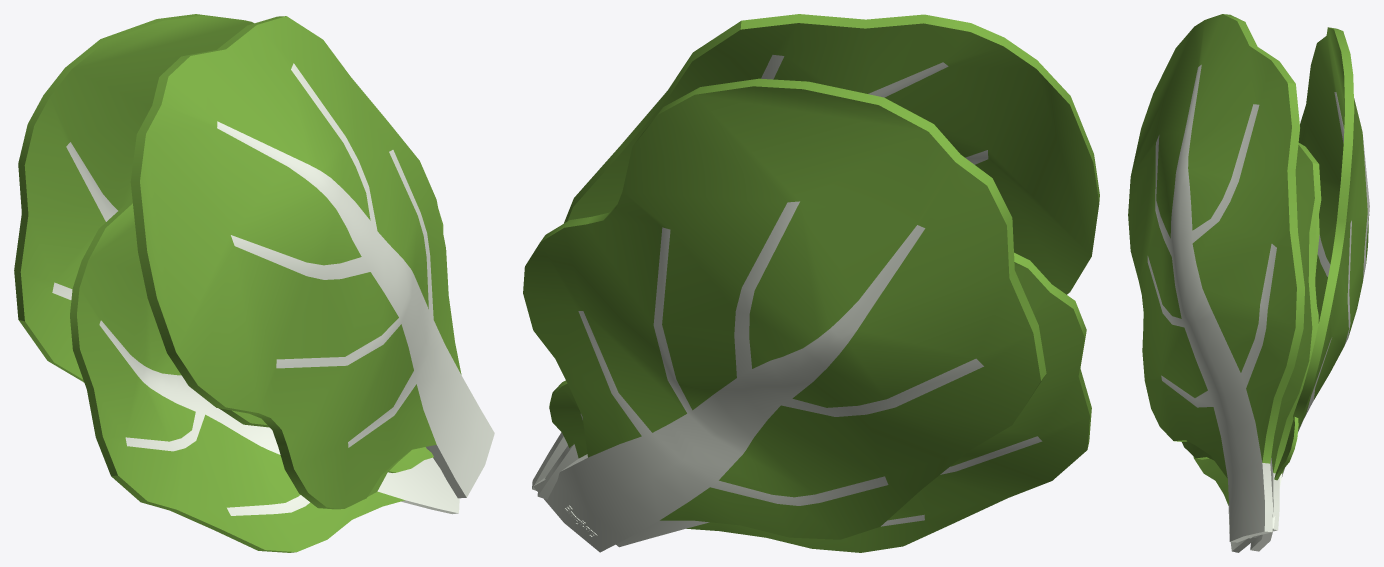
Rendered from leafy_green.gltf.
The picture shows the model from 3 angles, left to right: view 1: azimuth 30°, elevation 25°; view 2: azimuth 150°, elevation 25°; view 3: azimuth 270°, elevation 25°; orthographic projection. The views are drawn at different scales.
Parts seen in each view (by area): view 1: Plane.204; view 2: Plane.204; view 3: Plane.204.
Boxes of the visible parts, x1,y1,x2,y2 form: Plane.204: (14, 14, 494, 552); Plane.204: (523, 14, 1099, 552); Plane.204: (1128, 14, 1369, 552).
Size of the model in its own units: 2.09 by 2.29 by 1.17.
1 material, 1 textured.
